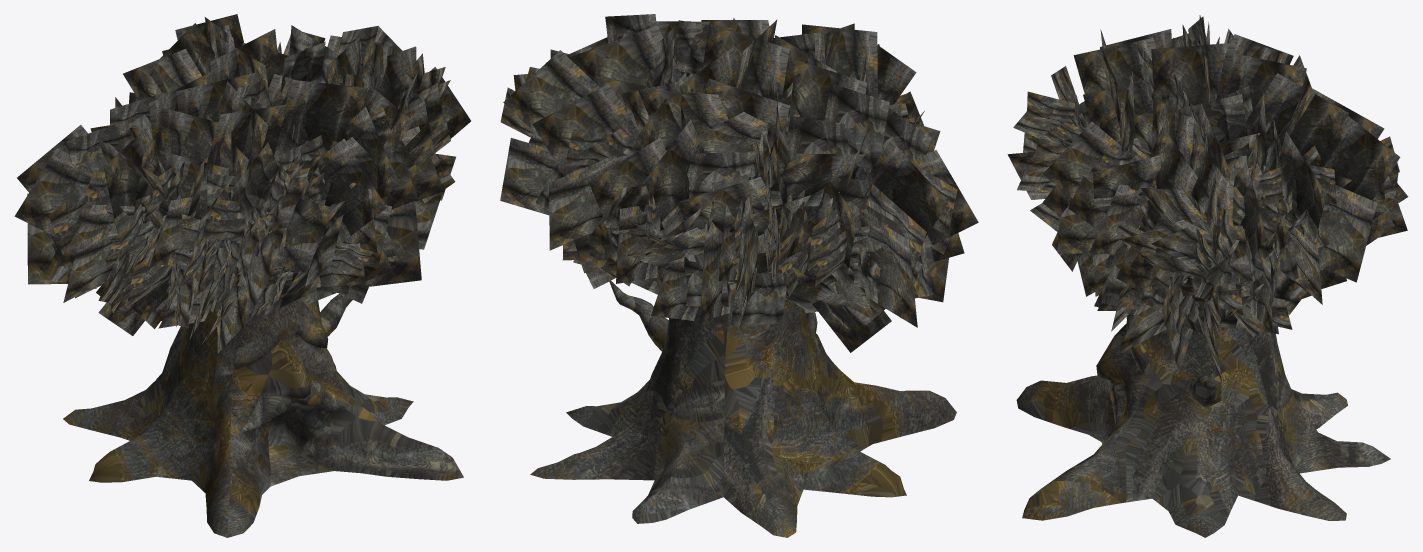
Rendered from arbol3.obj.
The picture shows the model from 3 angles, left to right: view 1: azimuth 30°, elevation 25°; view 2: azimuth 150°, elevation 25°; view 3: azimuth 270°, elevation 25°; orthographic projection. The views are drawn at different scales.
Parts seen in each view (by area): view 1: 0; view 2: 0; view 3: 0.
Part boxes in pixels (left/top/right/bottom): 0: left=14, top=14, right=470, bottom=537; 0: left=500, top=14, right=978, bottom=537; 0: left=1007, top=15, right=1408, bottom=537.
Bounding box in the file's own units: 1409 × 1199 × 1060.
1 material, 1 textured.
